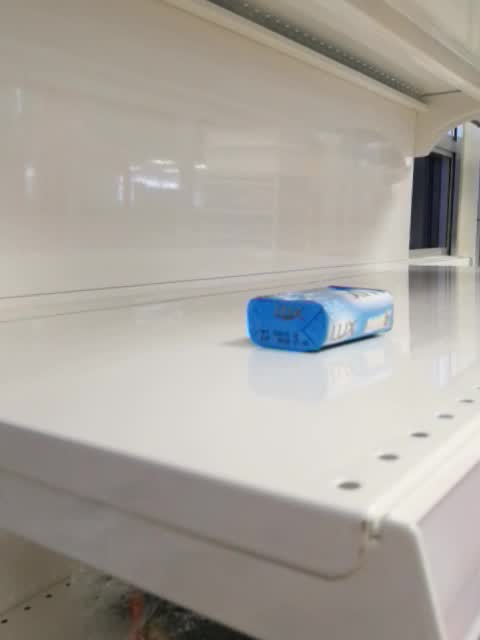soap: (246, 285, 396, 354)
